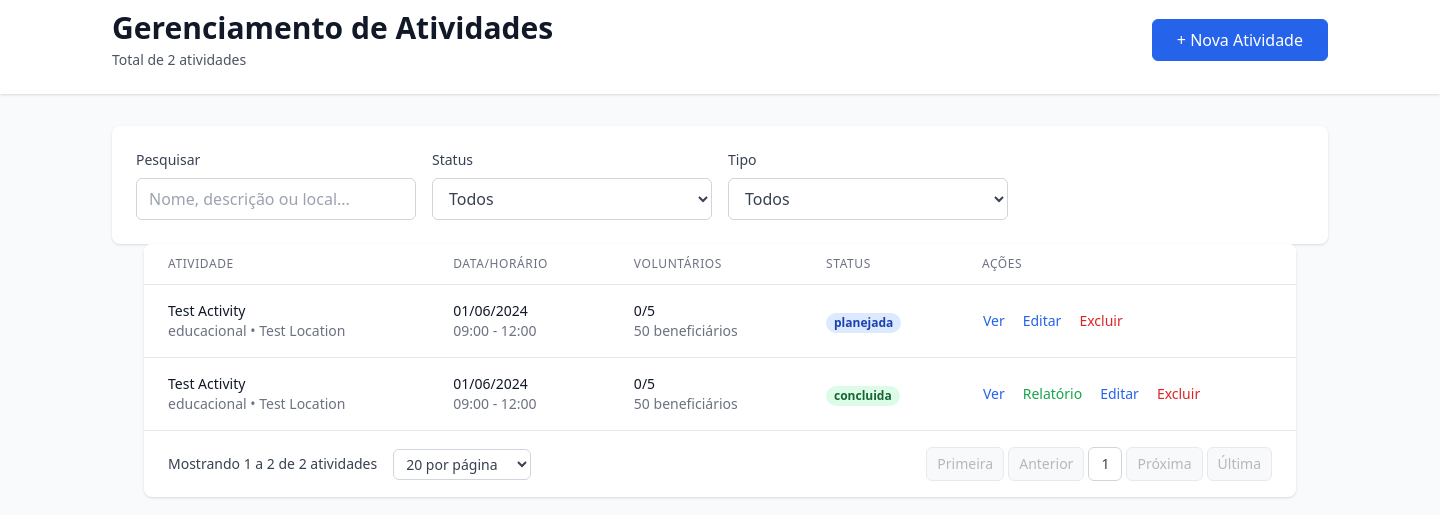
Test: ONGActivitiesPage › Activities List Display › should update activity count when filtered
expect the text "Total de 2 atividades" is shown: met, box [112, 50, 246, 69]
Filter by status
Select "Planejada" in the 1st dropdown at (572, 199), box [432, 178, 712, 220]
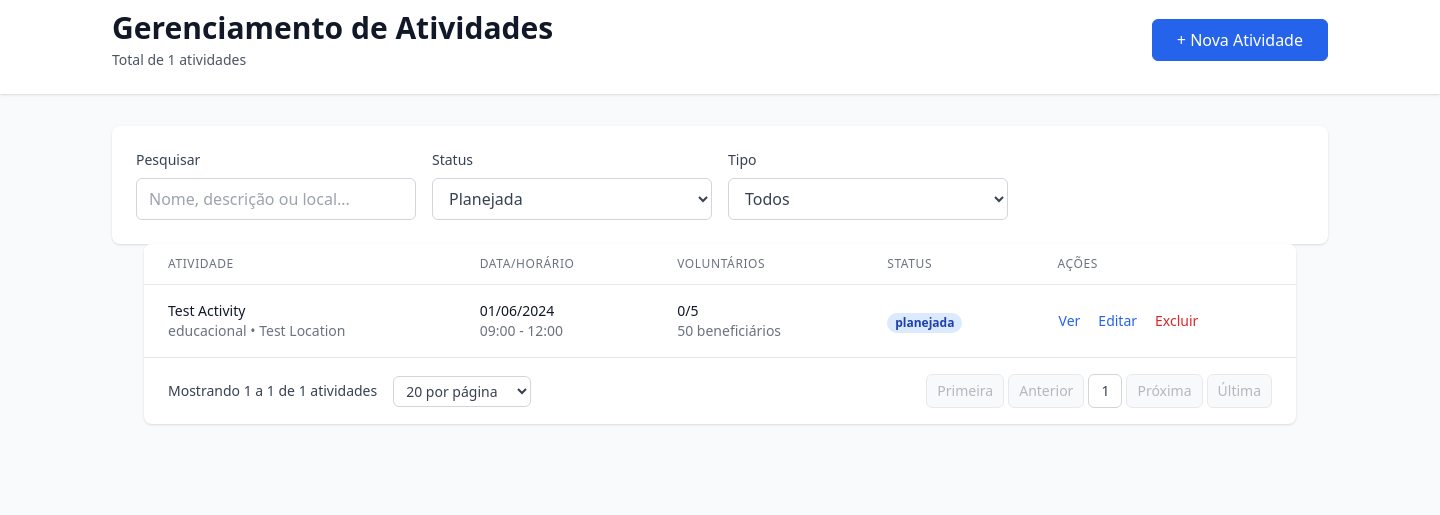
expect the text "Total de 1 atividades" is shown: met, box [112, 50, 246, 69]
